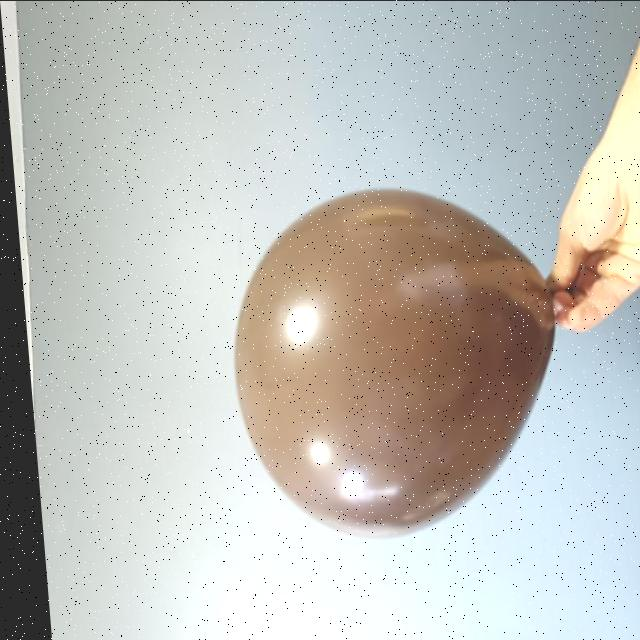balloon: (214, 193, 563, 540)
